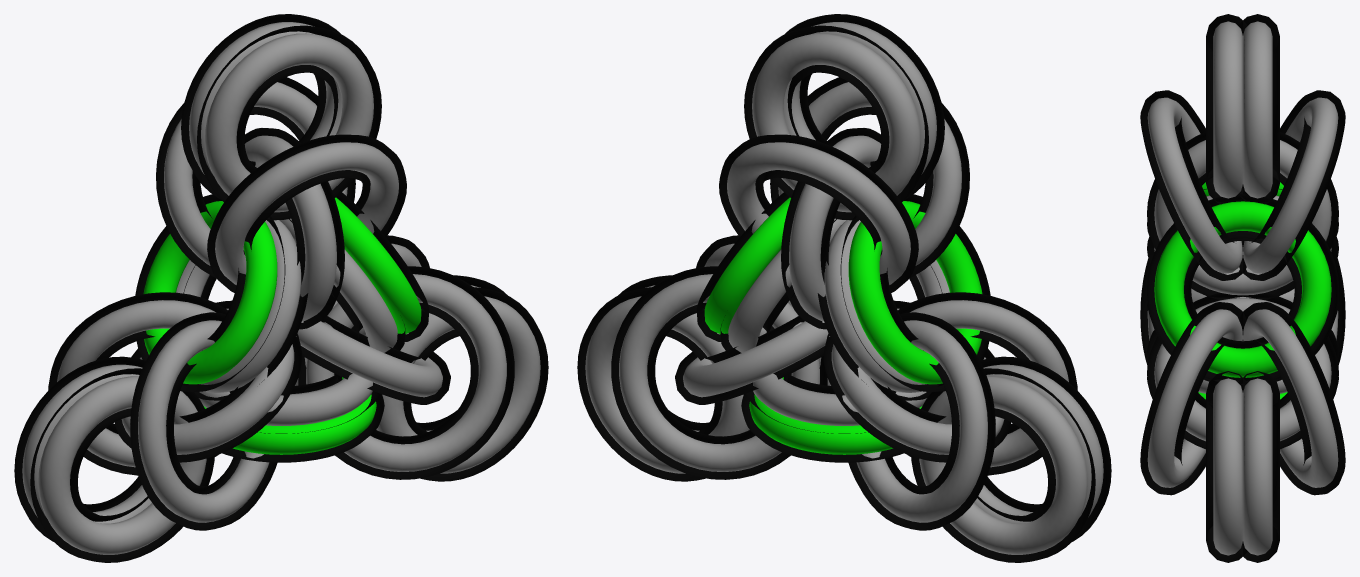
File: b_3_unit_tutorial_09.glb
The picture shows the model from 3 angles, left to right: view 1: azimuth 30°, elevation 25°; view 2: azimuth 150°, elevation 25°; view 3: azimuth 270°, elevation 25°; orthographic projection. The views are drawn at different scales.
Parts seen in each view (by area): view 1: Torus.019, Torus.009, Torus.011, Torus.017, Torus.015, Torus.008, Torus.013, Torus.018, Torus.016, Torus, Torus.001, Torus.002 (+8 smaller); view 2: Torus.020, Torus.010, Torus.012, Torus.018, Torus.016, Torus.008, Torus.014, Torus.017, Torus.015, Torus, Torus.001, Torus.002 (+8 smaller); view 3: Torus.006, Torus.019, Torus.020, Torus.015, Torus.016, Torus.013, Torus.014, Torus.009, Torus.010, Torus, Torus.002, Torus.017 (+5 smaller).
Part boxes in pixels (x1=…): Torus.019: x1=298, y1=266, x2=514, y2=479; Torus.009: x1=197, y1=25, x2=381, y2=220; Torus.011: x1=30, y1=368, x2=214, y2=562; Torus.017: x1=130, y1=312, x2=277, y2=530; Torus.015: x1=207, y1=134, x2=406, y2=292; Torus.008: x1=135, y1=194, x2=285, y2=391; Torus.013: x1=376, y1=287, x2=548, y2=481; Torus.018: x1=48, y1=292, x2=227, y2=475; Torus.016: x1=156, y1=77, x2=355, y2=278; Torus: x1=244, y1=128, x2=344, y2=329; Torus.001: x1=114, y1=300, x2=302, y2=462; Torus.002: x1=296, y1=316, x2=450, y2=404; Torus.020: x1=611, y1=266, x2=827, y2=479; Torus.010: x1=744, y1=25, x2=928, y2=220; Torus.012: x1=911, y1=368, x2=1095, y2=562; Torus.018: x1=848, y1=312, x2=995, y2=530; Torus.016: x1=719, y1=134, x2=918, y2=292; Torus.008: x1=840, y1=194, x2=990, y2=391; Torus.014: x1=577, y1=287, x2=749, y2=481; Torus.017: x1=898, y1=292, x2=1077, y2=475; Torus.015: x1=770, y1=77, x2=969, y2=278; Torus: x1=781, y1=128, x2=881, y2=329; Torus.001: x1=823, y1=300, x2=1011, y2=462; Torus.002: x1=675, y1=316, x2=829, y2=404; Torus.006: x1=1147, y1=194, x2=1338, y2=385; Torus.019: x1=1140, y1=302, x2=1246, y2=495; Torus.020: x1=1239, y1=302, x2=1345, y2=495; Torus.015: x1=1140, y1=90, x2=1246, y2=280; Torus.016: x1=1239, y1=90, x2=1345, y2=280; Torus.013: x1=1206, y1=371, x2=1247, y2=562; Torus.014: x1=1238, y1=371, x2=1279, y2=562; Torus.009: x1=1206, y1=14, x2=1247, y2=204; Torus.010: x1=1238, y1=14, x2=1279, y2=204; Torus: x1=1147, y1=132, x2=1338, y2=300; Torus.002: x1=1147, y1=293, x2=1338, y2=449; Torus.017: x1=1140, y1=258, x2=1154, y2=365.
Size of the model in its own units: 7.45 by 6.8 by 2.78.
